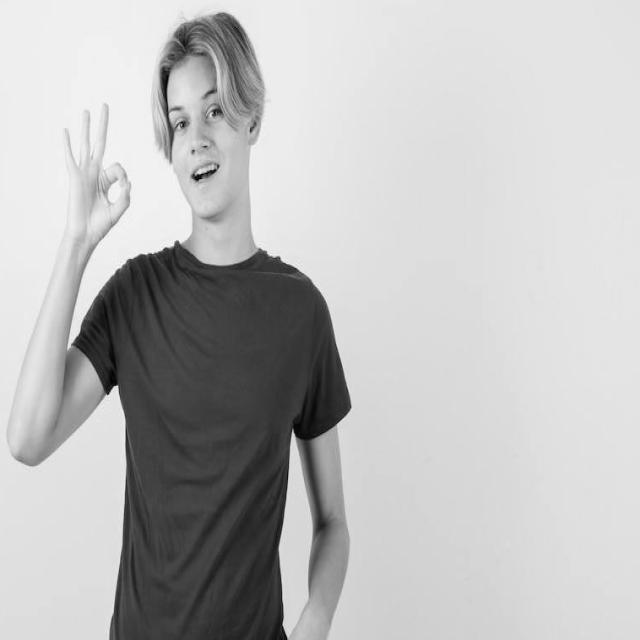perfect: (55, 92, 136, 264)
